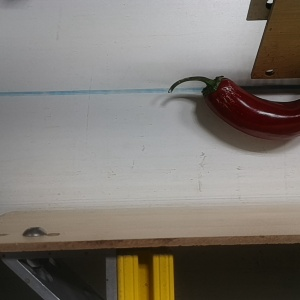Cut Point: (199, 74, 234, 107)
